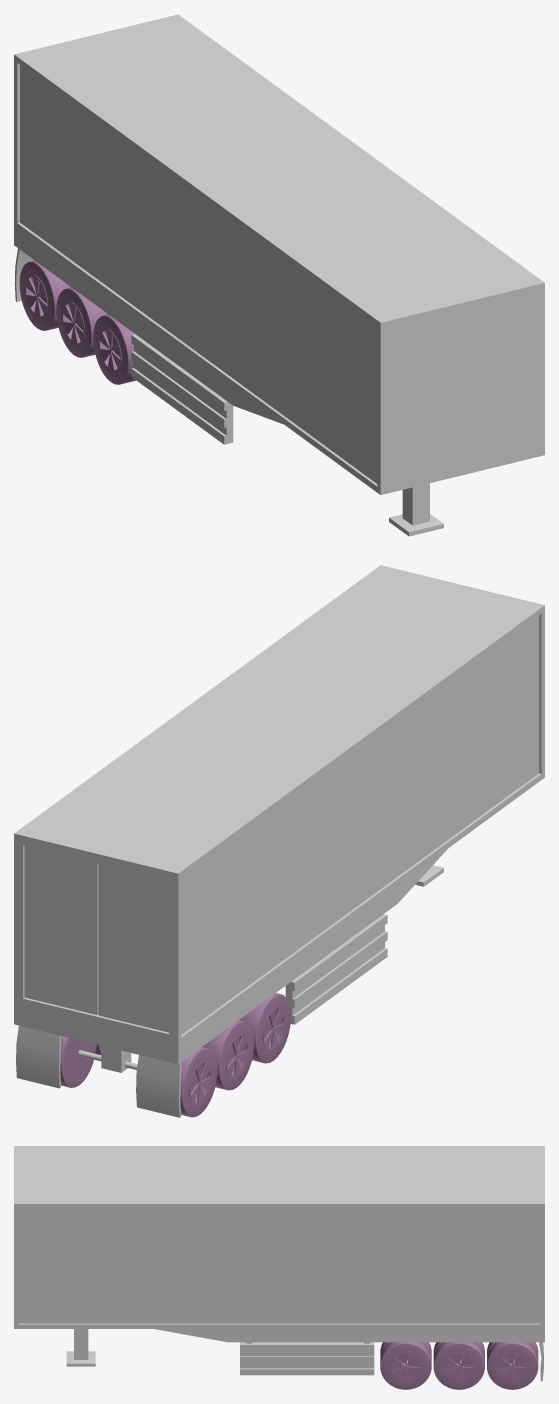
Rendered from Trailer.fbx.
3 views of the same model, one above another, from view 1: azimuth 30°, elevation 25°; view 2: azimuth 150°, elevation 25°; view 3: azimuth 270°, elevation 25° (orthographic). The views are drawn at different scales.
Visible parts, largest first — view 1: Trailer Box, Under trailer, Box006, Cylinder018, Cylinder008, Cylinder021, Box013; view 2: Trailer Box, Doors, Under trailer, Box006, Box012, Box016, Cylinder018, Cylinder021, Cylinder008, Cylinder029; view 3: Trailer Box, Under trailer, Box019, Cylinder026, Cylinder028, Cylinder024, Box013, Rim015, Rim013, Rim017.
Part boxes in pixels (bbox=[...]): Trailer Box: bbox=[14, 14, 544, 494]; Under trailer: bbox=[14, 227, 283, 424]; Box006: bbox=[131, 334, 233, 444]; Cylinder018: bbox=[56, 287, 107, 357]; Cylinder008: bbox=[19, 260, 70, 330]; Cylinder021: bbox=[93, 314, 135, 384]; Box013: bbox=[389, 483, 443, 536]; Trailer Box: bbox=[14, 565, 544, 1045]; Doors: bbox=[24, 846, 169, 1032]; Under trailer: bbox=[14, 849, 447, 1064]; Box006: bbox=[285, 914, 387, 1024]; Box012: bbox=[136, 1055, 181, 1117]; Box016: bbox=[16, 1025, 61, 1088]; Cylinder018: bbox=[203, 1020, 254, 1090]; Cylinder021: bbox=[240, 993, 290, 1063]; Cylinder008: bbox=[180, 1047, 217, 1117]; Cylinder029: bbox=[60, 1036, 96, 1087]; Trailer Box: bbox=[14, 1146, 544, 1328]; Under trailer: bbox=[155, 1329, 544, 1342]; Box019: bbox=[240, 1342, 374, 1375]; Cylinder026: bbox=[433, 1342, 484, 1389]; Cylinder028: bbox=[487, 1342, 538, 1389]; Cylinder024: bbox=[380, 1342, 431, 1389]; Box013: bbox=[66, 1329, 95, 1366]; Rim015: bbox=[444, 1353, 473, 1380]; Rim013: bbox=[391, 1353, 420, 1380]; Rim017: bbox=[498, 1353, 527, 1380].
Bounding box in the file's own units: 80.02 × 120 × 309.
